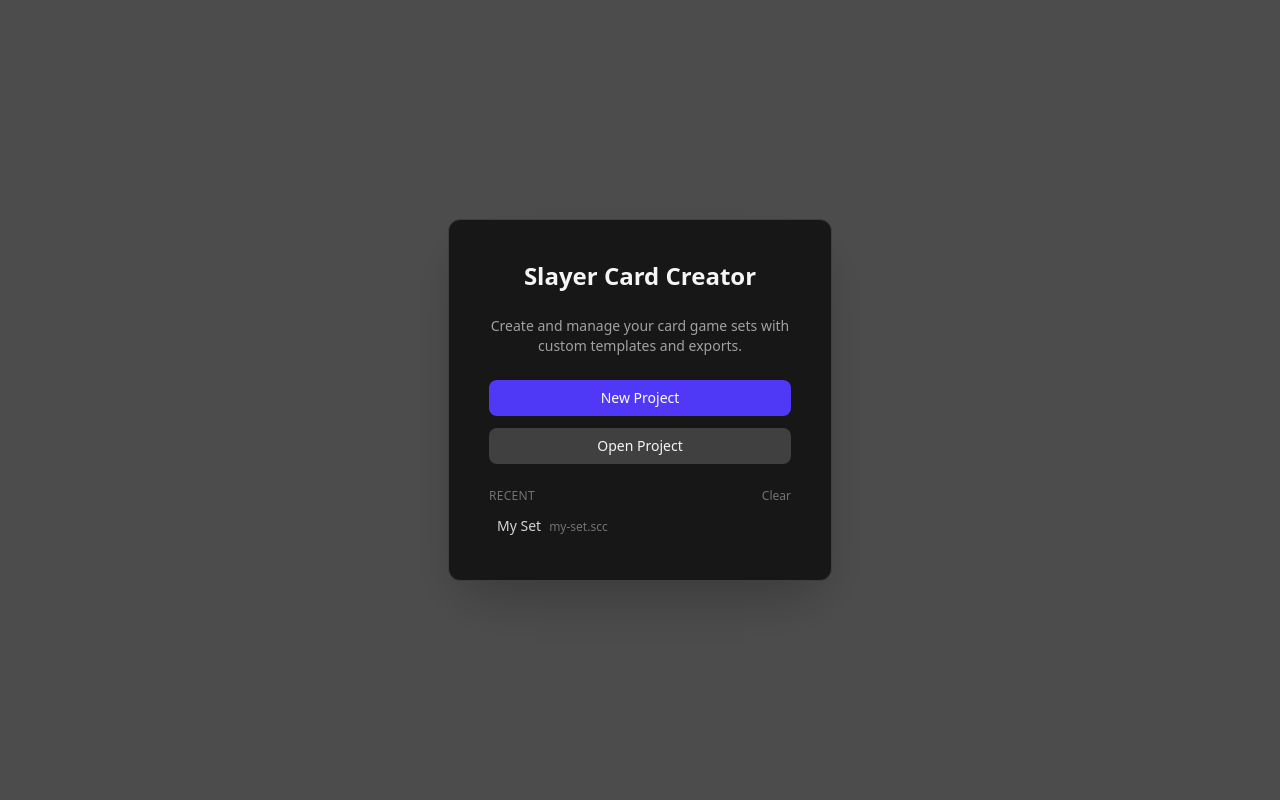
WelcomeModal › Clear button removes the recent projects list
Expected: the button "My Set" is shown, [489,512,791,540]
Click the button "Clear" at (776, 496), box [762,488,791,504]
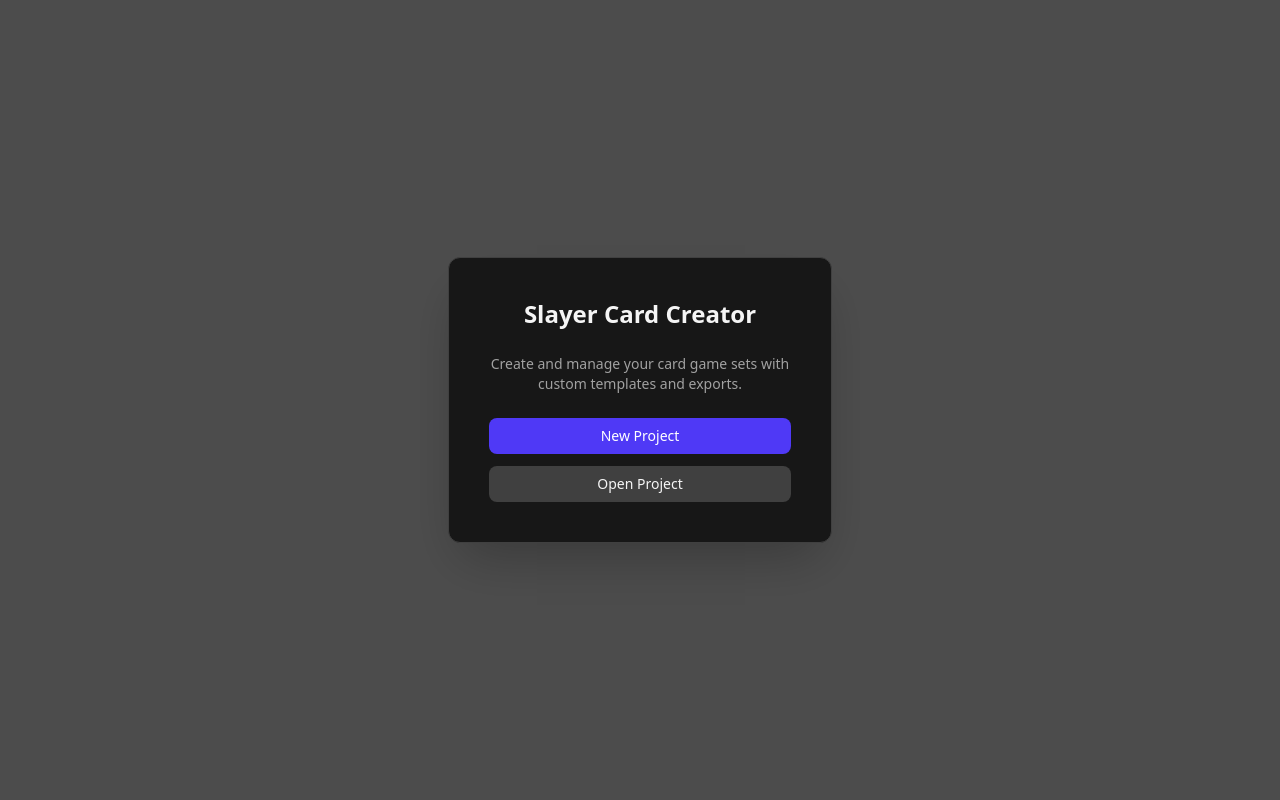
Expected: the button "My Set" is gone
